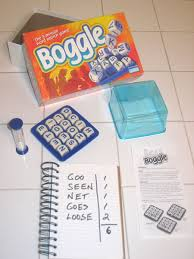boggle: (30, 104, 100, 163)
